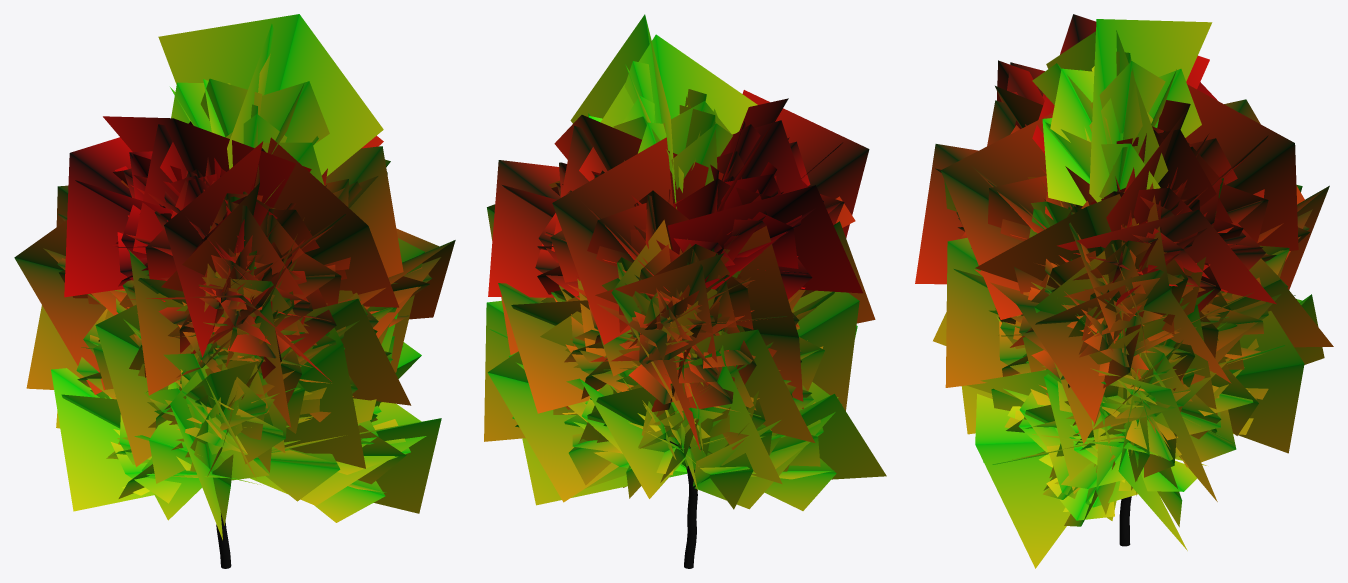
The model's file is linden_tree_6.FBX.
3 renders of one model, left to right at view 1: azimuth 30°, elevation 25°; view 2: azimuth 150°, elevation 25°; view 3: azimuth 270°, elevation 25°, orthographic. The views are drawn at different scales.
Parts seen in each view (by area): view 1: linden_leaves_shadow, linden_leaves_lod_0; view 2: linden_leaves_shadow, linden_leaves_lod_0, linden_trunk_lod_0; view 3: linden_leaves_shadow, linden_leaves_lod_0, linden_trunk_lod_0.
Part boxes in pixels (box(x1,y1,x2,y2)): linden_leaves_shadow: box(14, 14, 455, 540); linden_leaves_lod_0: box(57, 53, 431, 525); linden_leaves_shadow: box(484, 14, 886, 509); linden_leaves_lod_0: box(512, 61, 844, 510); linden_trunk_lod_0: box(684, 463, 697, 568); linden_leaves_shadow: box(915, 14, 1333, 568); linden_leaves_lod_0: box(955, 51, 1309, 527); linden_trunk_lod_0: box(1119, 496, 1131, 546).
Size of what is drawn, in the model's own units: 7.94 by 11.2 by 7.66.
